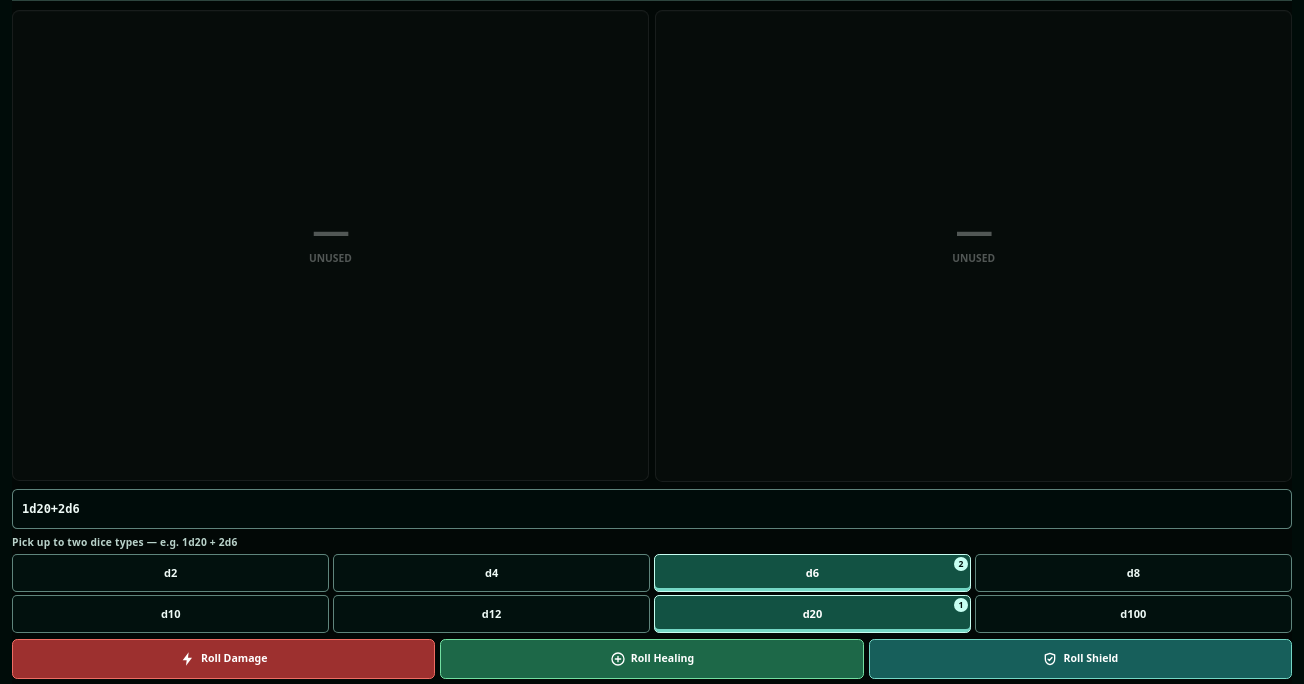
it: clicking a die button after typing an unparseable expression starts fresh
Replace the text in the field named "Dice expression" with "garbage": {"x": 652, "y": 509} top-left (12, 489), bottom-right (1292, 529)
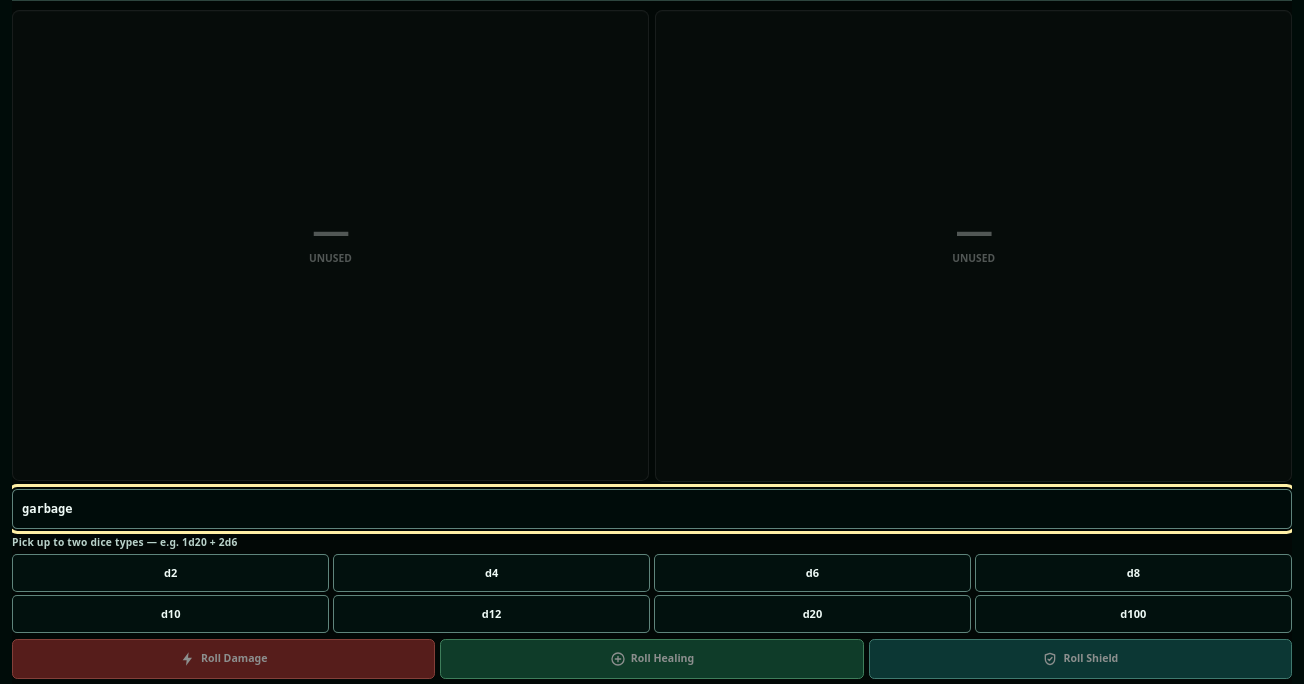
Click the button "d12": {"x": 492, "y": 614} top-left (333, 595), bottom-right (650, 633)
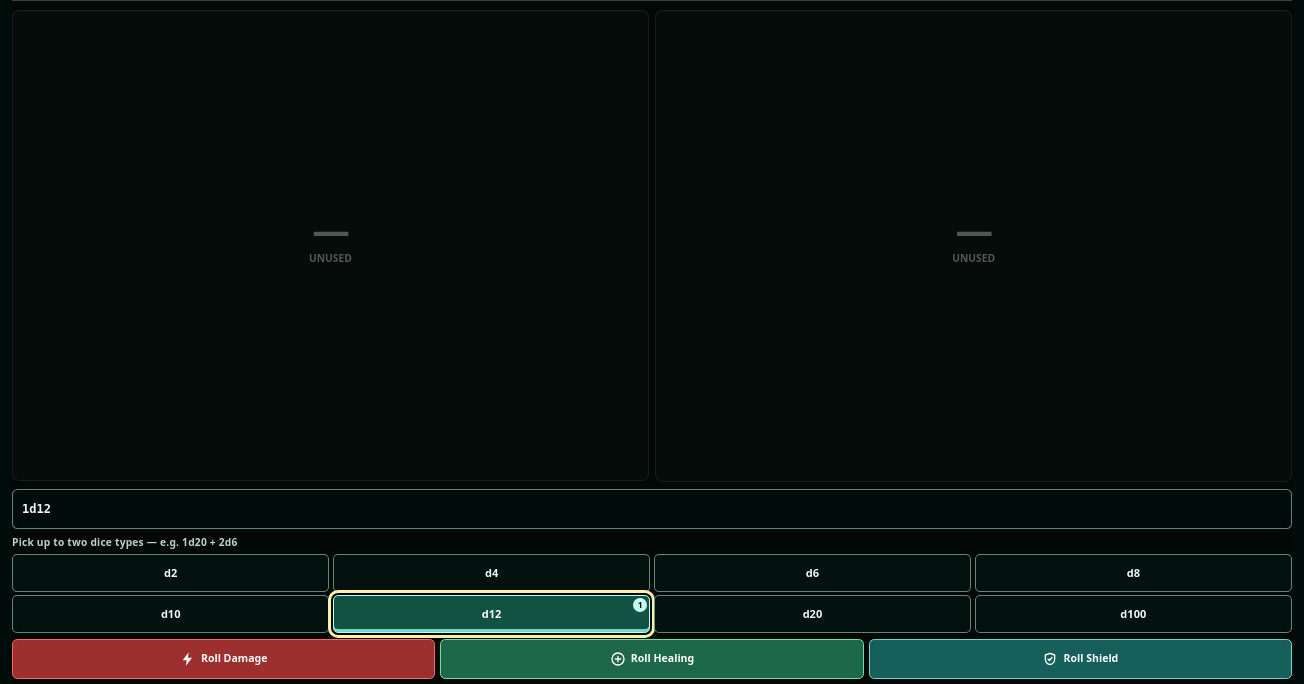
Result: the field named "Dice expression" holds "1d12" at top-left (12, 489), bottom-right (1292, 529)
